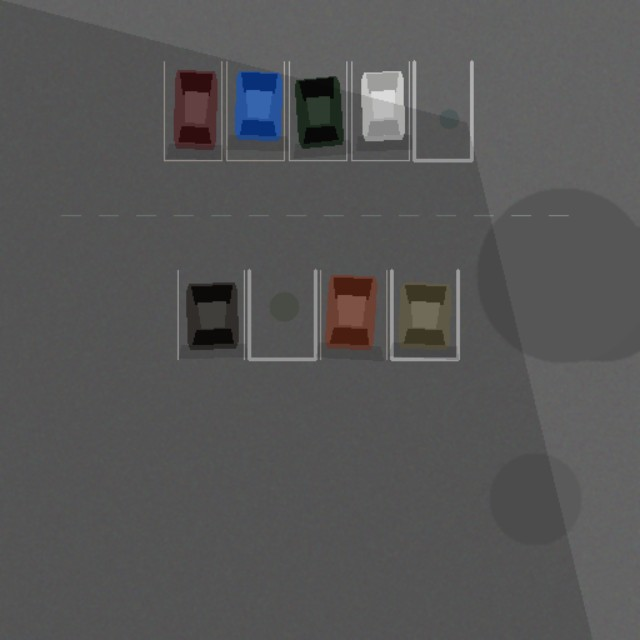space-empty: (249, 270, 315, 359), (414, 61, 471, 160)
space-occupied: (391, 270, 458, 359), (178, 270, 244, 359), (320, 270, 386, 359), (226, 61, 284, 160), (351, 61, 409, 160), (164, 61, 221, 160), (289, 61, 346, 160)
